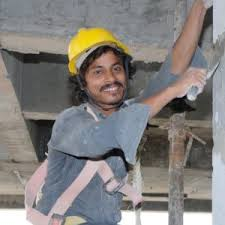hard hat: (67, 27, 130, 74)
